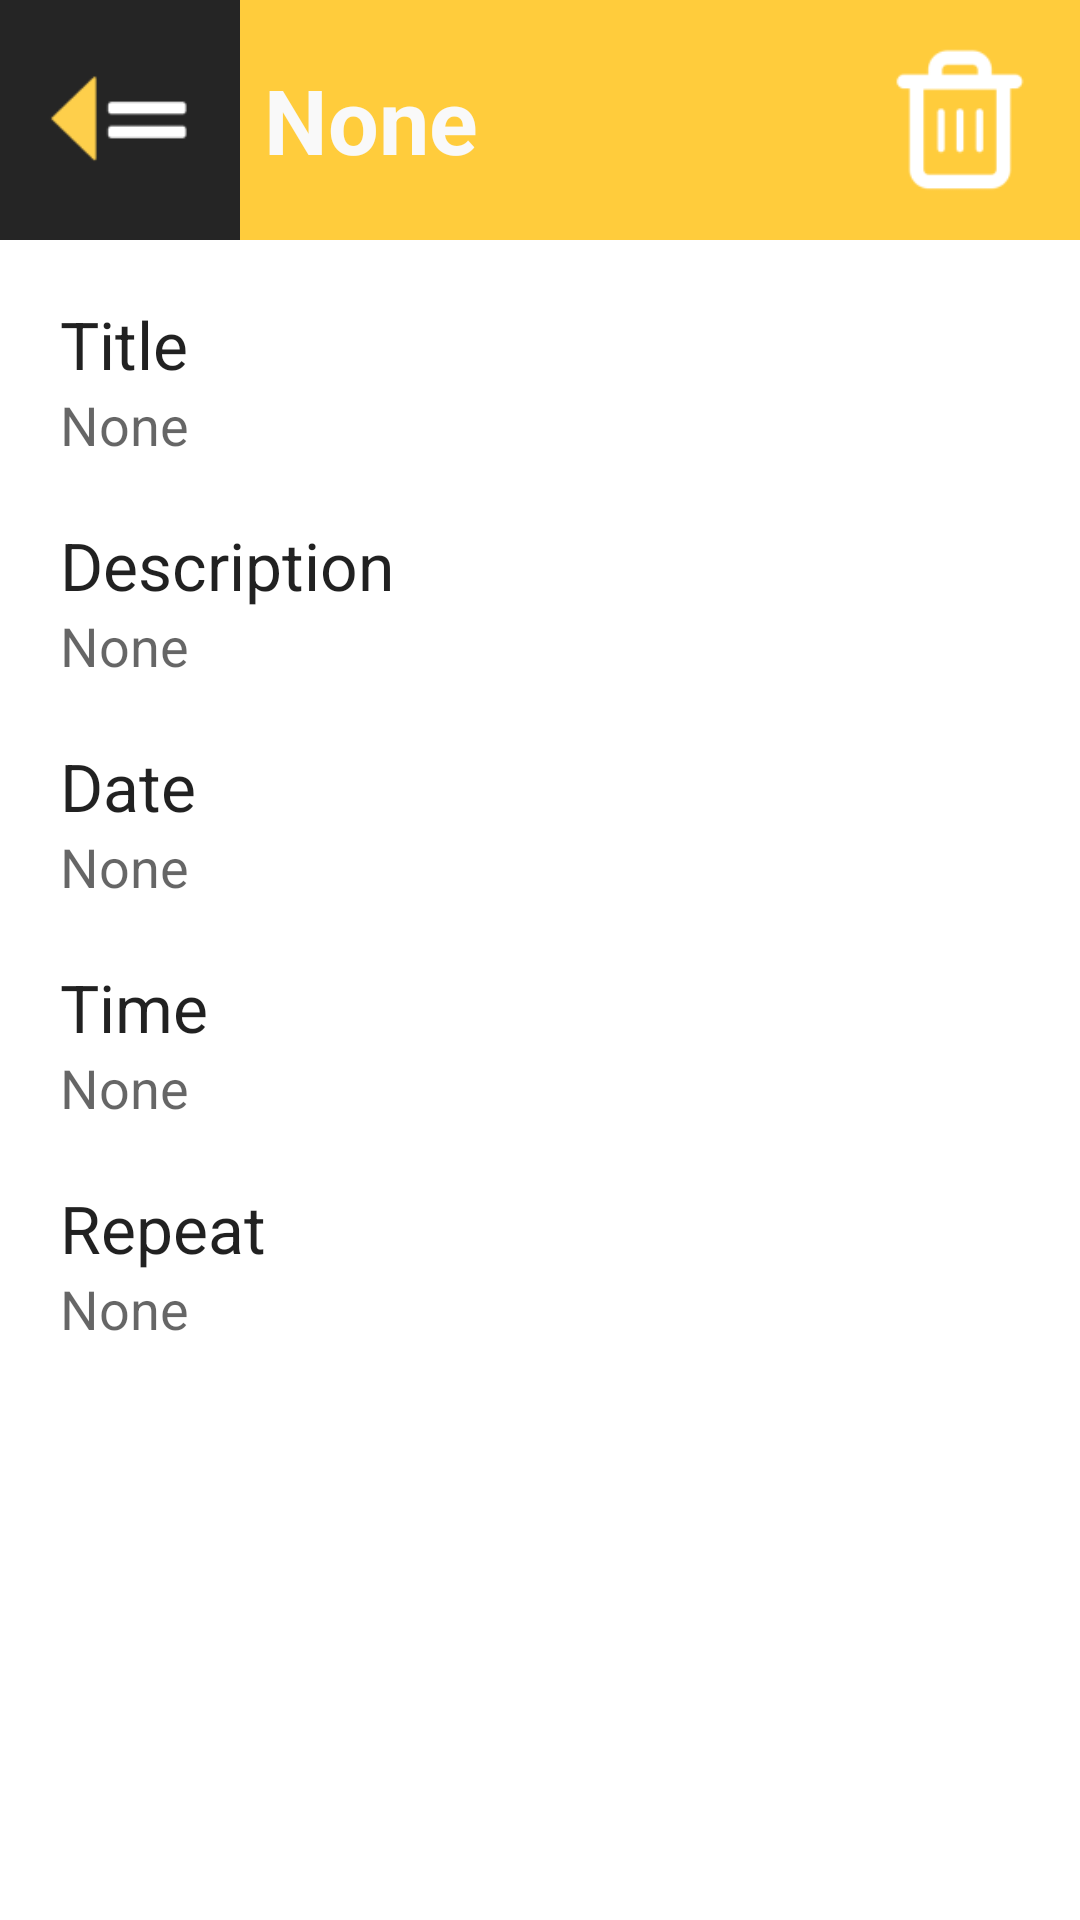

Where to tap for icons on this 1080px×1920px app screen, as (x,y):
back: (120,120)
delete: (960,120)
